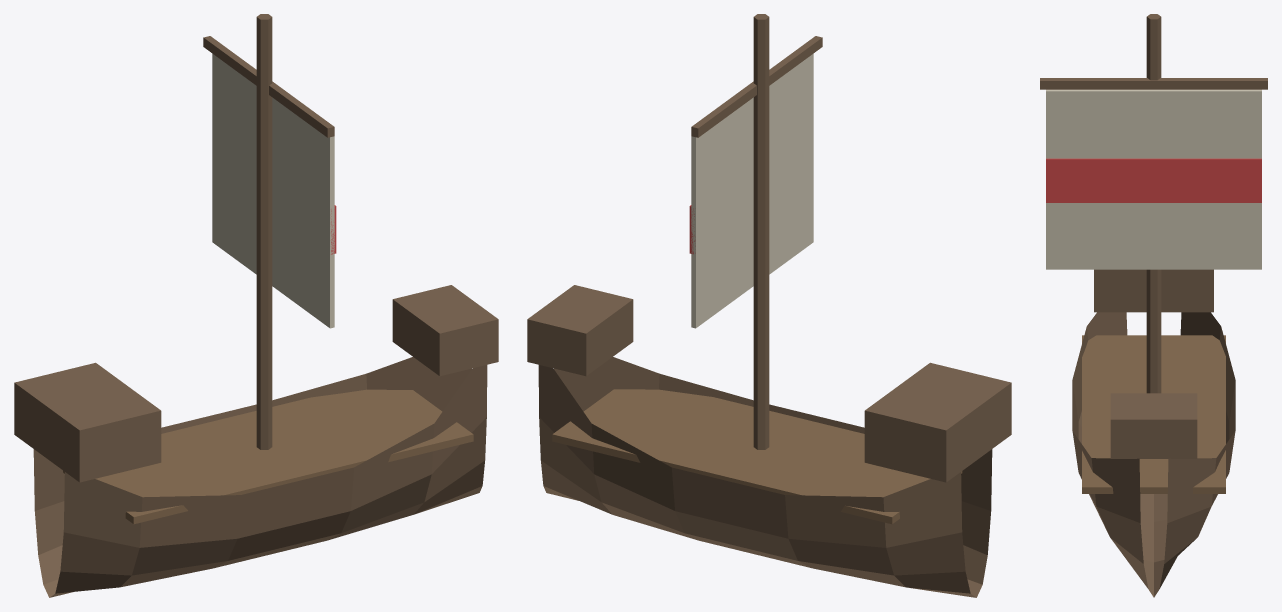
File: ship.glb
The picture shows the model from 3 angles, left to right: view 1: azimuth 30°, elevation 25°; view 2: azimuth 150°, elevation 25°; view 3: azimuth 270°, elevation 25°; orthographic projection. The views are drawn at different scales.
Visible parts, largest first — view 1: ship; view 2: ship; view 3: ship.
Boxes of the visible parts, x1,y1,x2,y2 form: ship: (14, 14, 498, 597); ship: (527, 14, 1011, 597); ship: (1040, 14, 1267, 597).
Bounding box in the file's own units: 1.91 × 2.23 × 0.95.
